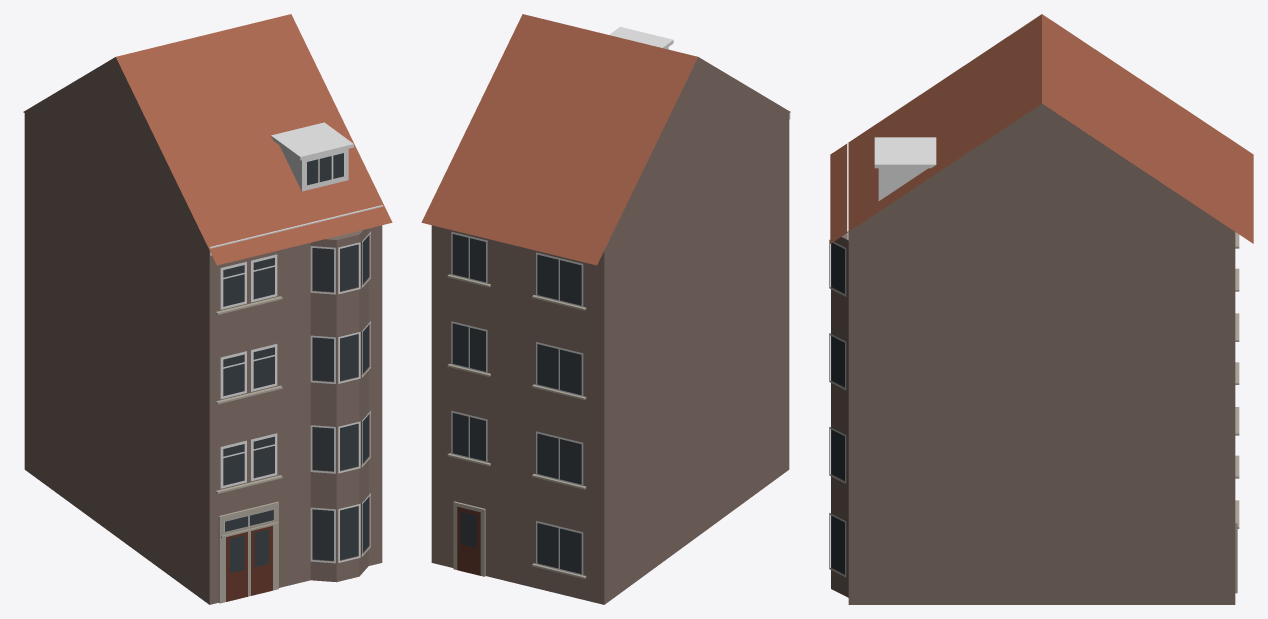
Rendered from we-pk-bay__brown__4__gable__long__solid__f0d0__mirror.glb.
3 renders of one model, left to right at view 1: azimuth 30°, elevation 25°; view 2: azimuth 150°, elevation 25°; view 3: azimuth 270°, elevation 25°, orthographic. The views are drawn at different scales.
Visible parts, largest first — view 1: we-pk-bay__brown__4__gable__long__solid__f0d0__mirror; view 2: we-pk-bay__brown__4__gable__long__solid__f0d0__mirror; view 3: we-pk-bay__brown__4__gable__long__solid__f0d0__mirror.
Boxes of the visible parts, x1,y1,x2,y2 form: we-pk-bay__brown__4__gable__long__solid__f0d0__mirror: [23, 14, 392, 604]; we-pk-bay__brown__4__gable__long__solid__f0d0__mirror: [421, 14, 790, 604]; we-pk-bay__brown__4__gable__long__solid__f0d0__mirror: [829, 14, 1253, 604].
Bounding box in the file's own units: 6.36 × 16.63 × 12.77.
